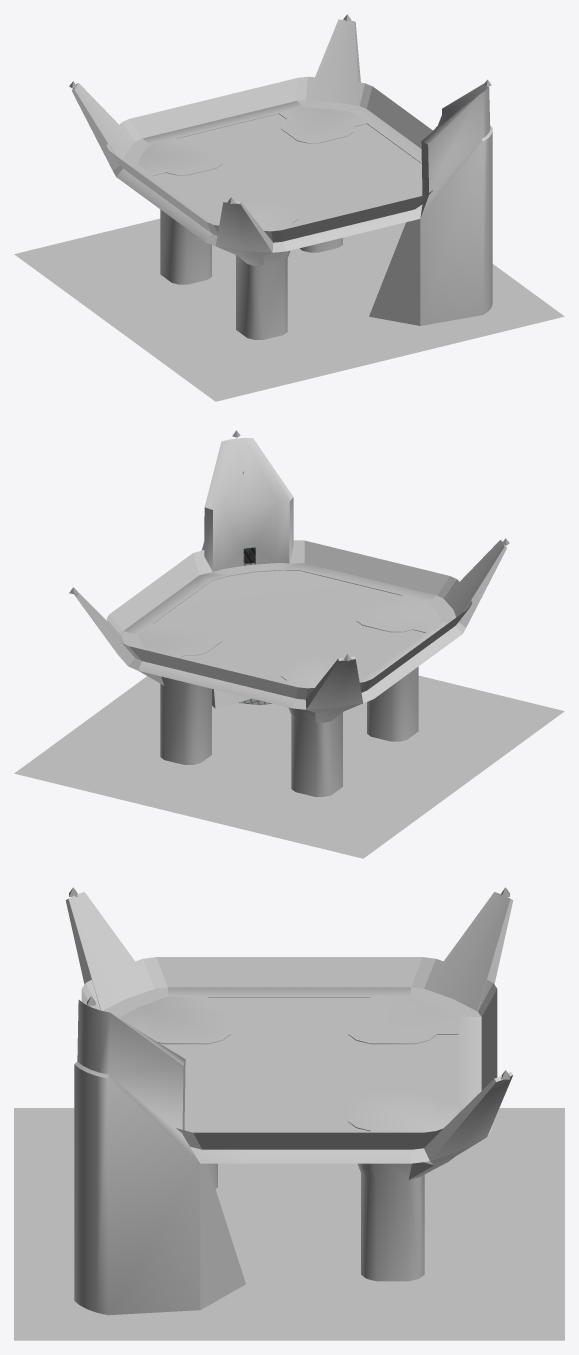
Rendered from ibbomb00.FBX.
3 views of the same model, one above another, from view 1: azimuth 30°, elevation 25°; view 2: azimuth 150°, elevation 25°; view 3: azimuth 270°, elevation 25° (orthographic). The views are drawn at different scales.
Visible parts, largest first — view 1: terrain, mainbody, plate__2, leg003, leg002, leg001; view 2: terrain, plate__2, mainbody, leg001, leg002, leg003; view 3: terrain, mainbody, plate__2, leg001, leg002, leg003.
Boxes of the visible parts, bbox=[...] form: terrain: bbox=[14, 218, 564, 401]; mainbody: bbox=[72, 19, 492, 325]; plate__2: bbox=[106, 76, 433, 242]; leg003: bbox=[212, 199, 298, 339]; leg002: bbox=[138, 138, 222, 284]; leg001: bbox=[279, 107, 366, 252]; terrain: bbox=[14, 675, 564, 858]; plate__2: bbox=[106, 540, 472, 699]; mainbody: bbox=[74, 438, 506, 709]; leg001: bbox=[138, 624, 222, 764]; leg002: bbox=[280, 656, 366, 796]; leg003: bbox=[356, 595, 440, 741]; terrain: bbox=[14, 1108, 564, 1340]; mainbody: bbox=[65, 892, 513, 1315]; plate__2: bbox=[81, 957, 497, 1149]; leg001: bbox=[348, 1093, 484, 1281]; leg002: bbox=[348, 997, 458, 1044]; leg003: bbox=[120, 997, 230, 1188].
Size of the model in its own units: 64 by 40 by 64.
